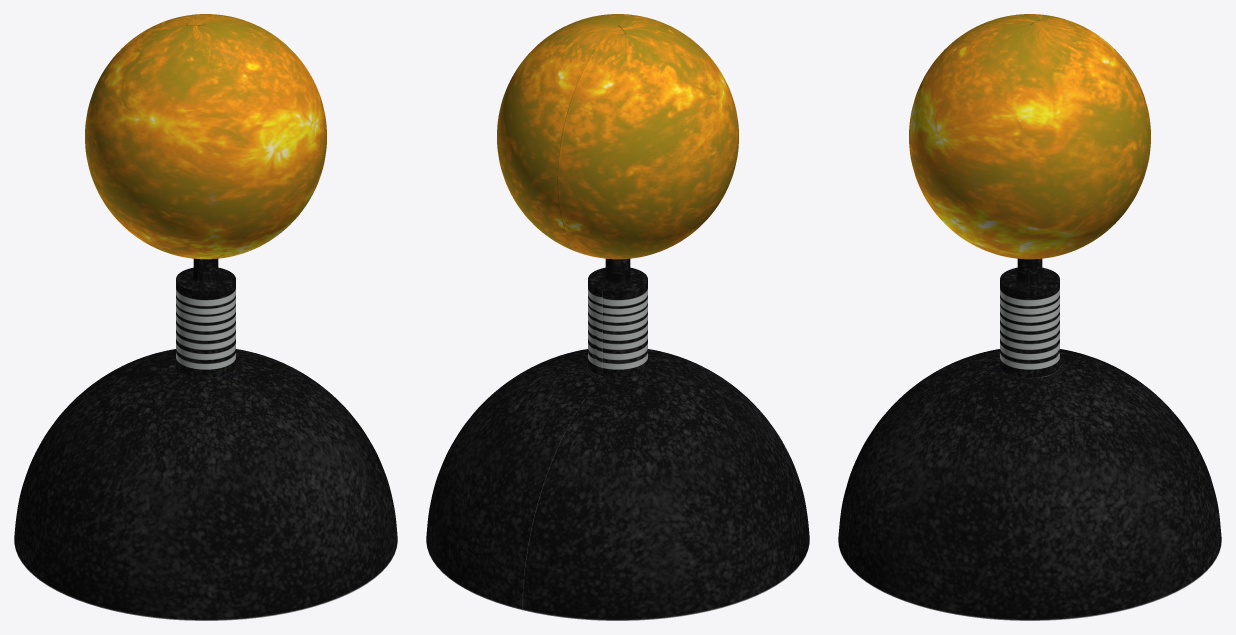
File: orrery_nucleo.glb
The picture shows the model from 3 angles, left to right: view 1: azimuth 30°, elevation 25°; view 2: azimuth 150°, elevation 25°; view 3: azimuth 270°, elevation 25°; orthographic projection.
Parts seen in each view (by area): view 1: polySurface17_modelUniverseMaterial_0; view 2: polySurface17_modelUniverseMaterial_0; view 3: polySurface17_modelUniverseMaterial_0.
Boxes of the visible parts, left/top/right/bottom form: polySurface17_modelUniverseMaterial_0: left=14, top=14, right=397, bottom=620; polySurface17_modelUniverseMaterial_0: left=426, top=14, right=809, bottom=620; polySurface17_modelUniverseMaterial_0: left=838, top=14, right=1221, bottom=620.
Bounding box in the file's own units: 0.1969 × 0.2918 × 0.1969.
Materials: 1 (1 with a texture image).
